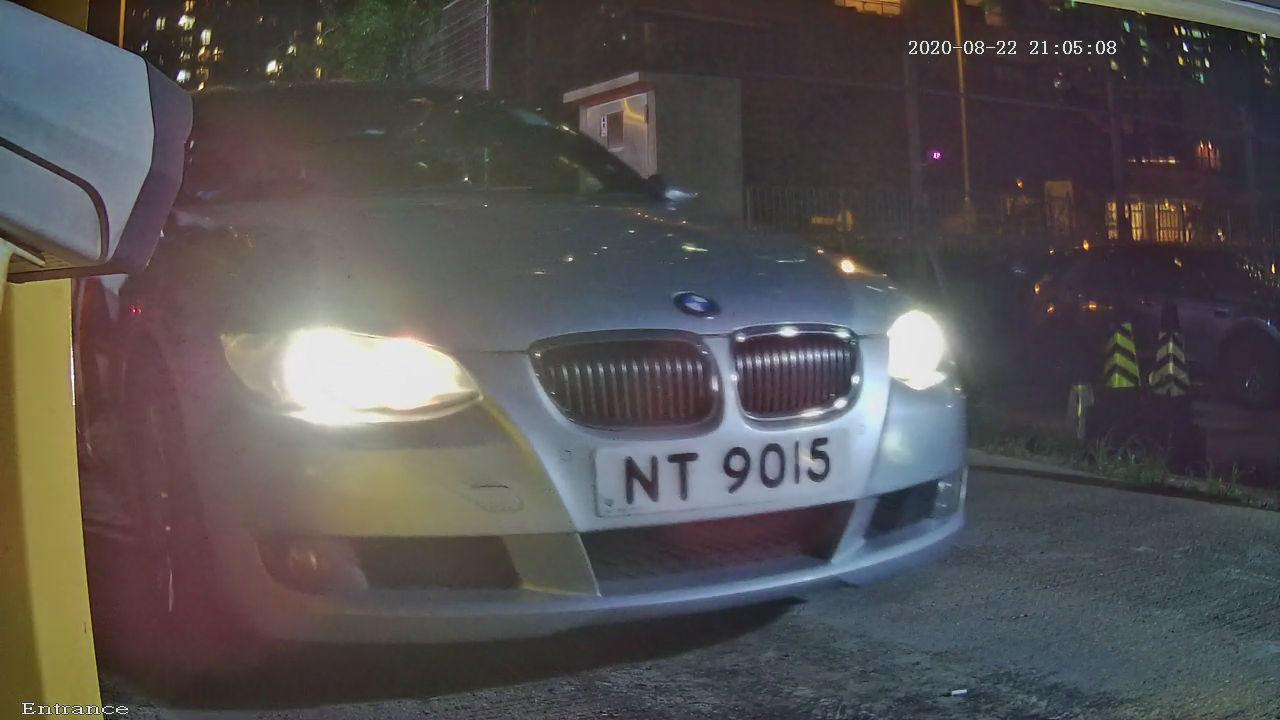Car: (12, 17, 1041, 695)
License Plate: (532, 392, 896, 561)
